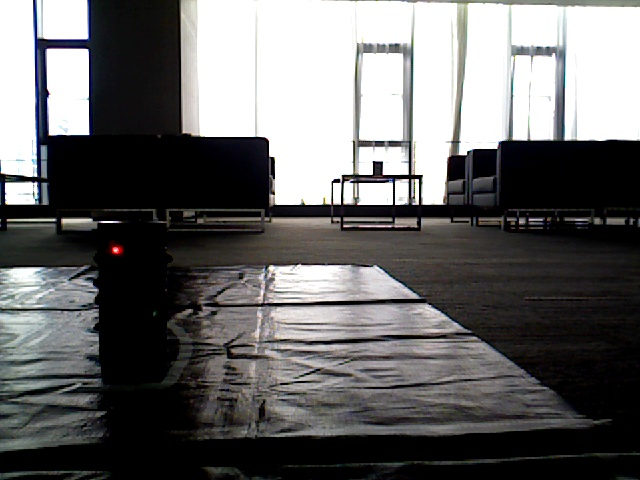red: (101, 225, 153, 329)
